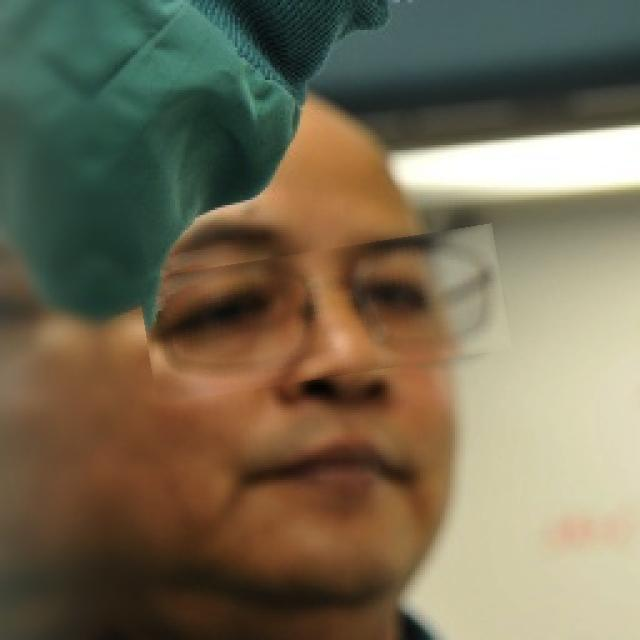glasses: (141, 237, 508, 391)
